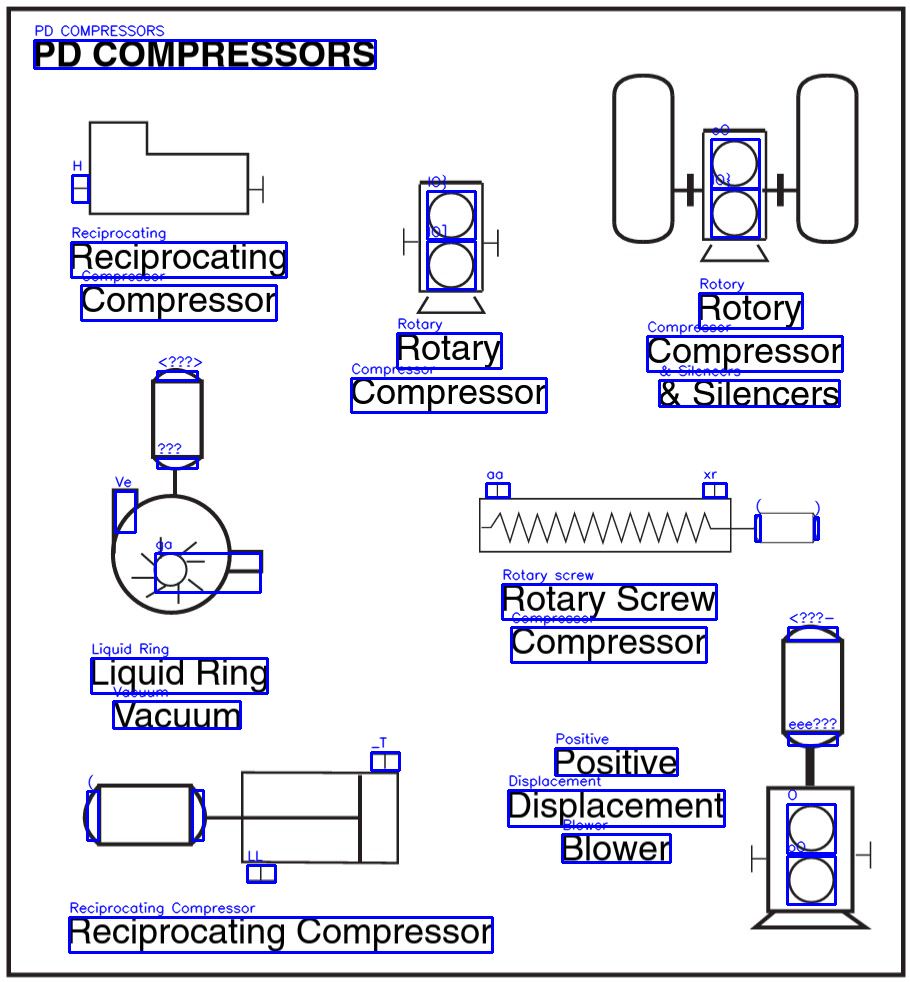Compressor: (599, 65, 868, 268), (79, 748, 405, 887), (107, 363, 266, 619), (747, 621, 877, 934), (471, 477, 823, 557), (65, 115, 269, 222), (395, 171, 506, 319)
